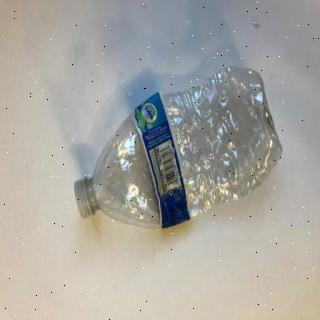Plastic-bottle: (74, 64, 286, 234)
